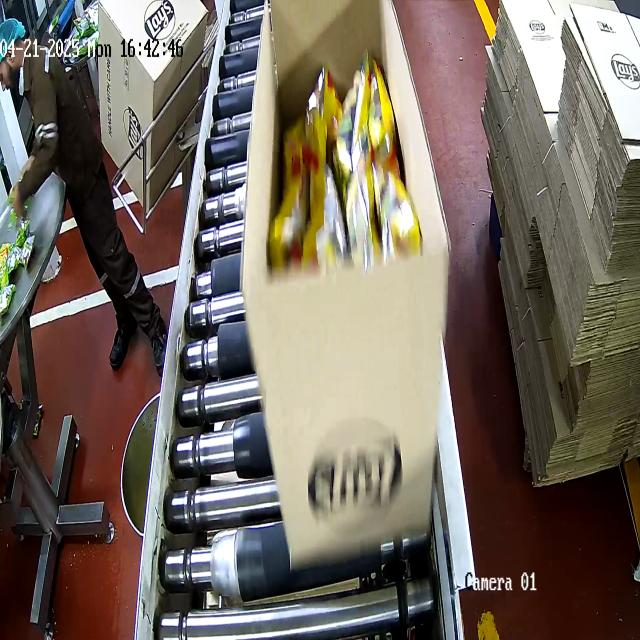SALTED: (271, 60, 415, 271)
